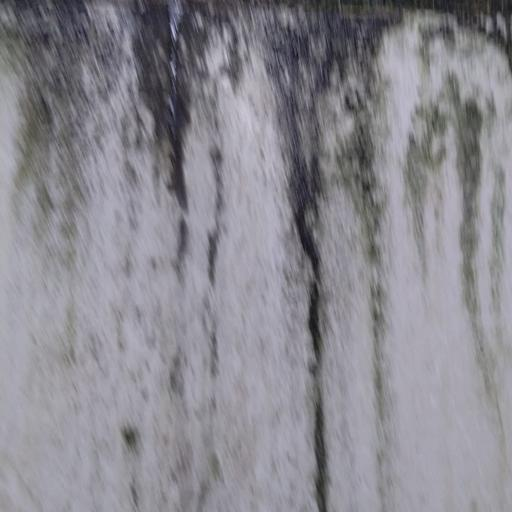algae: (20, 0, 512, 342)
